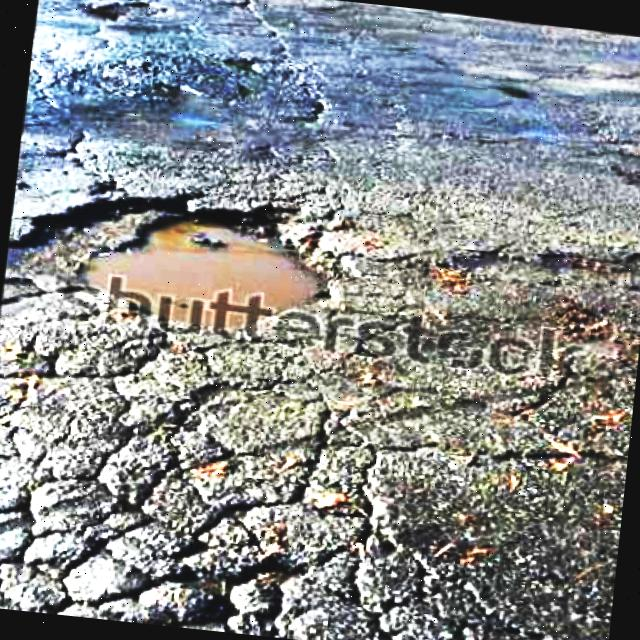pothole: (0, 474, 411, 640), (0, 168, 357, 355)
